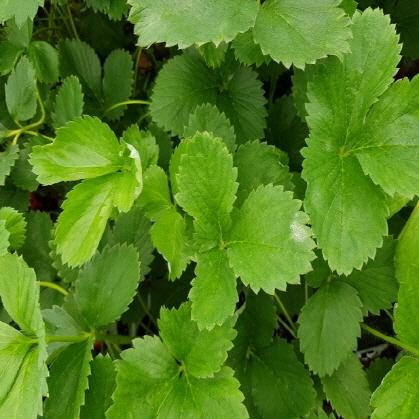Powdery Mildew Leaf: (225, 180, 319, 294), (109, 142, 143, 213)
